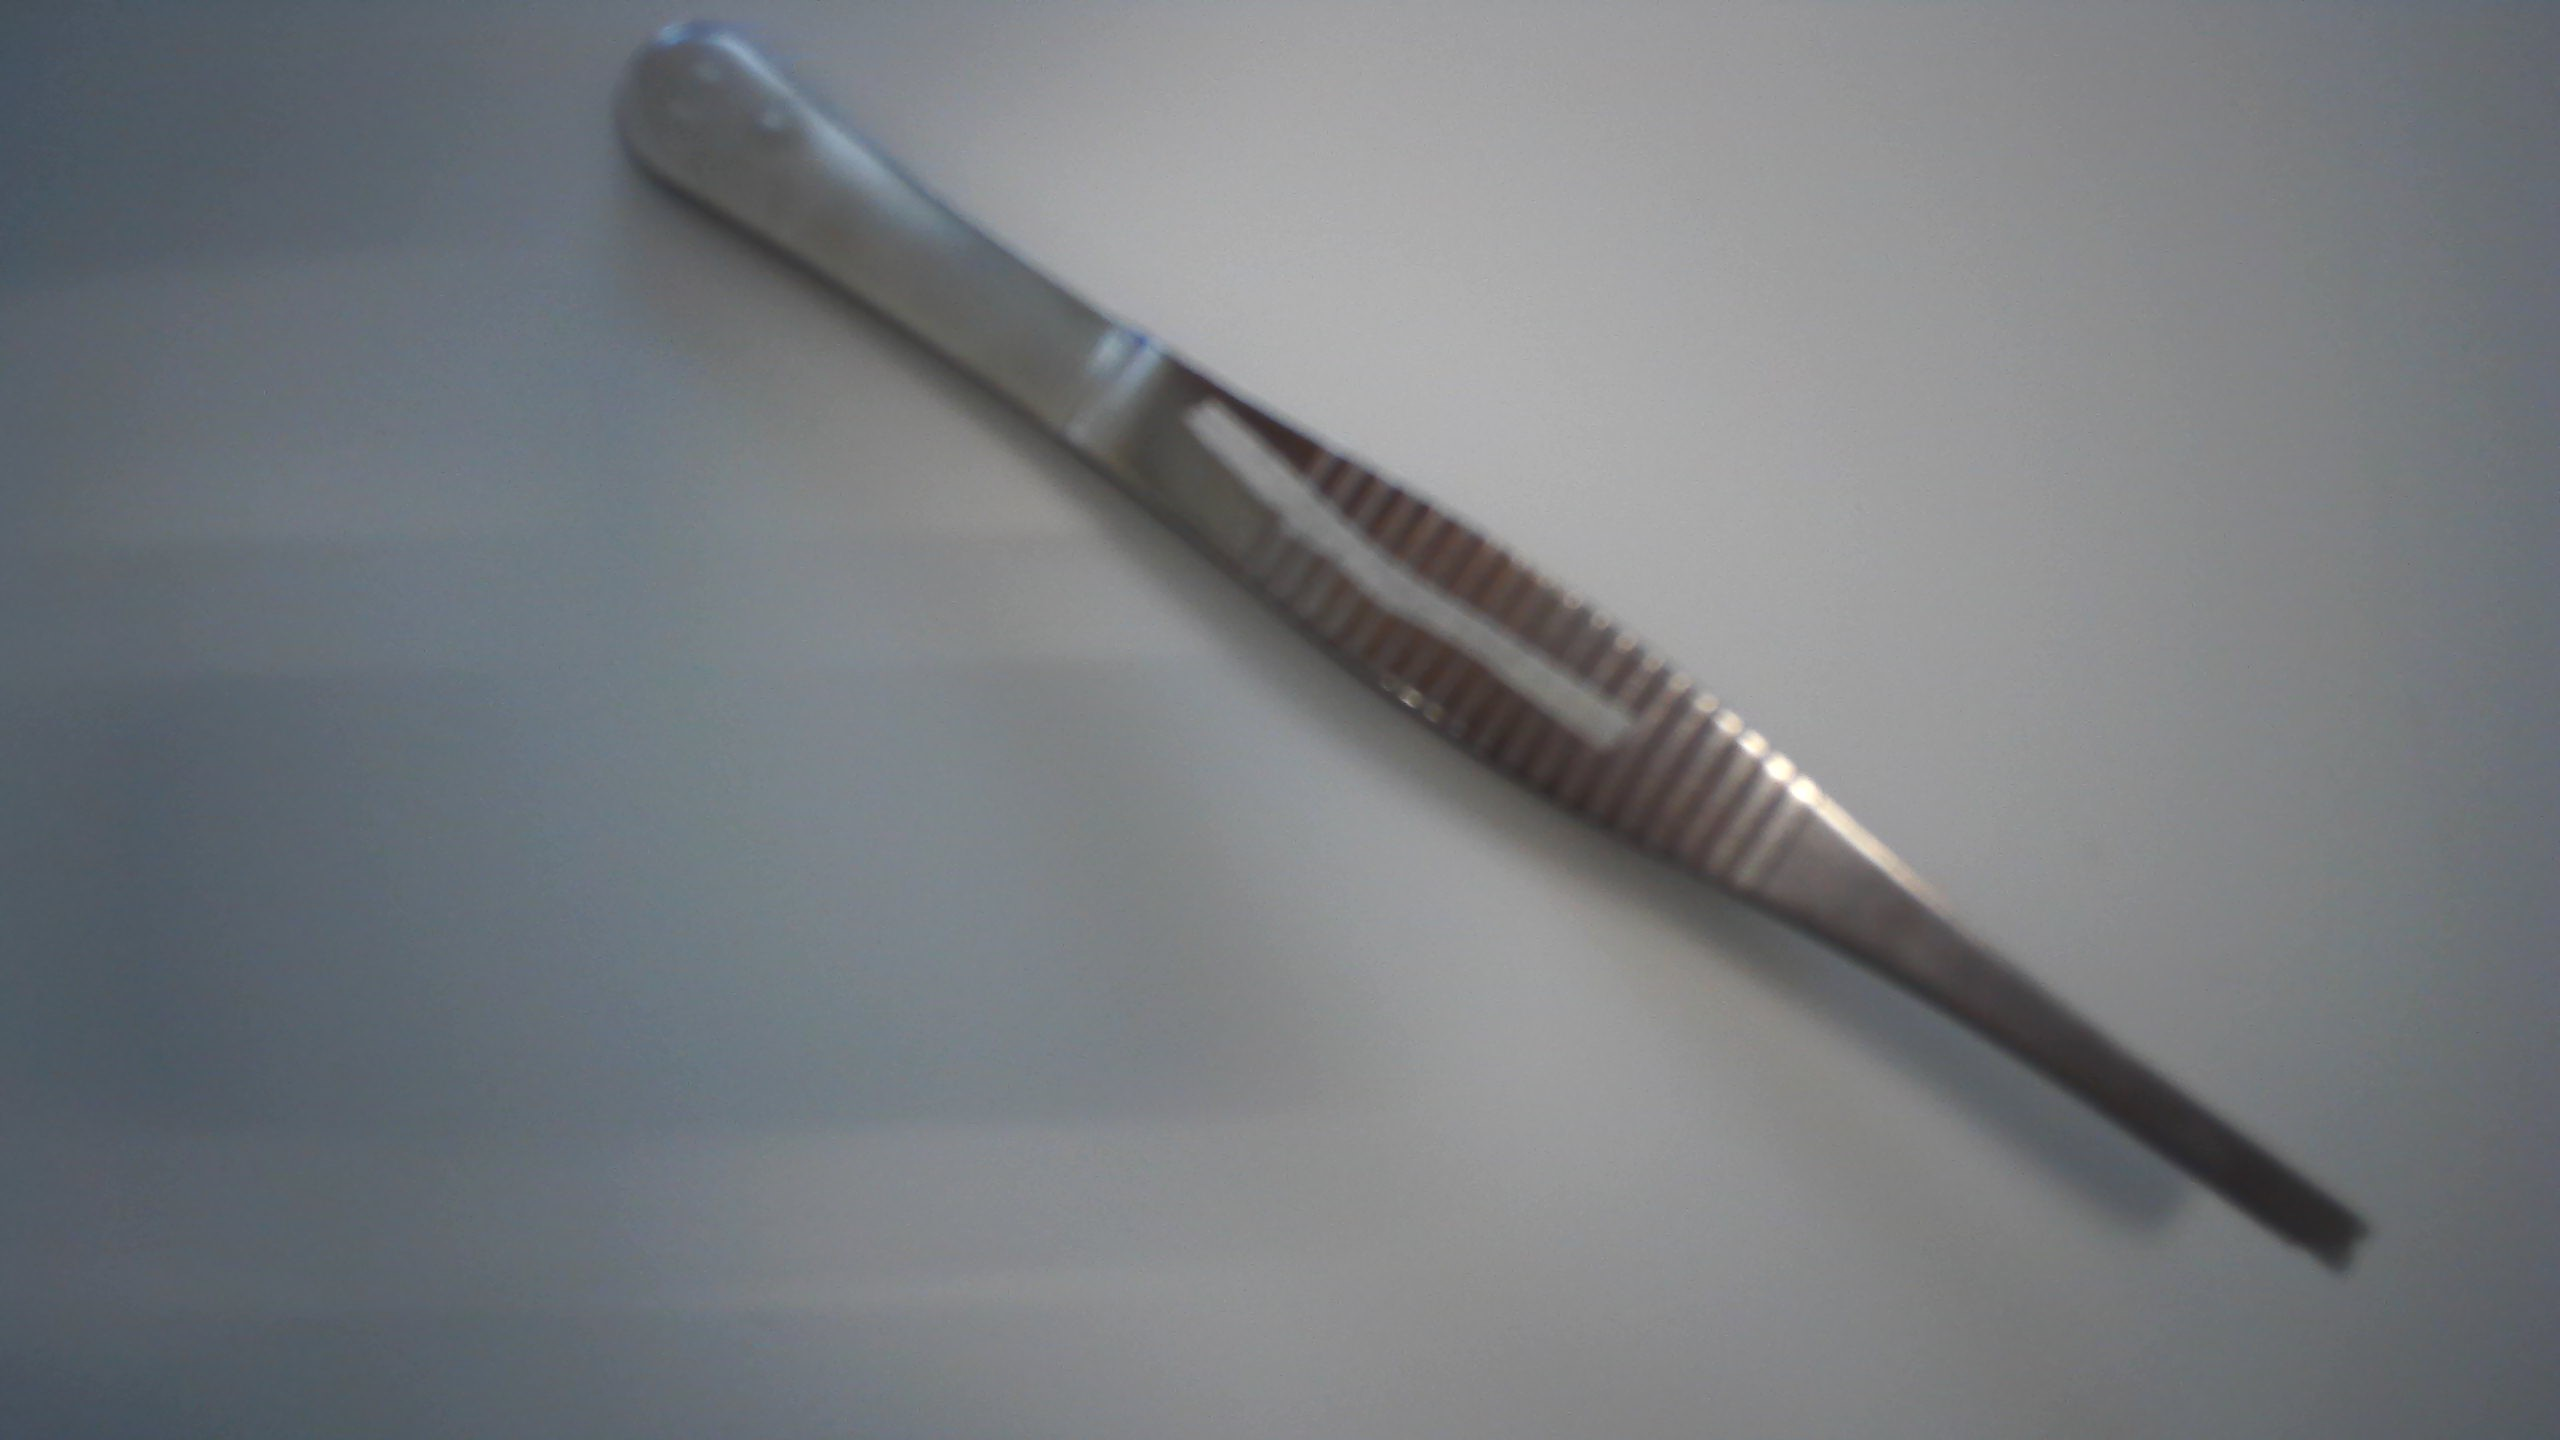Scratches: (1177, 393, 1640, 762)
